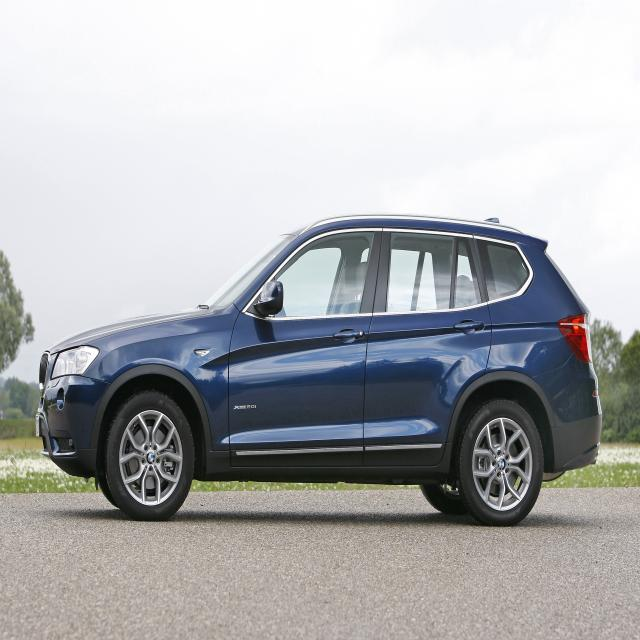car: (27, 201, 610, 554)
